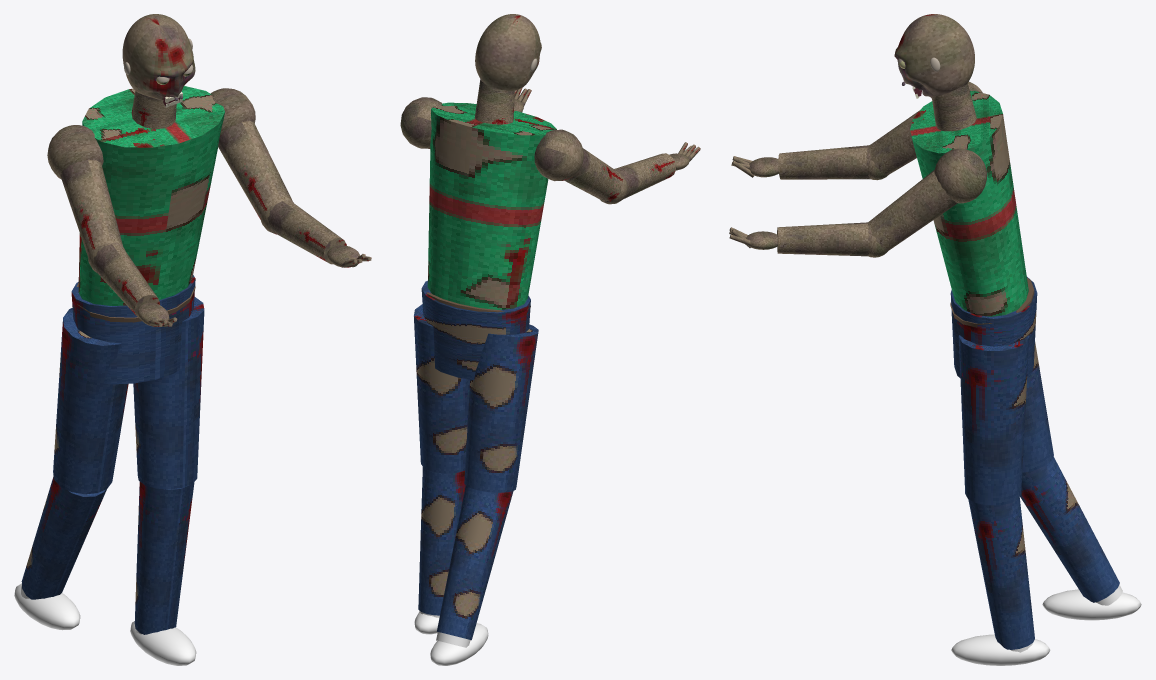
File: Zombie_125.glb
3 renders of one model, left to right at view 1: azimuth 30°, elevation 25°; view 2: azimuth 150°, elevation 25°; view 3: azimuth 270°, elevation 25°, orthographic. The views are drawn at different scales.
Visible parts, largest first — view 1: Zombie_125, object 16, object 10, object 3, object 4; view 2: Zombie_125, object 16, object 3; view 3: Zombie_125, object 16, object 10, object 3.
Part boxes in pixels (bbox=[...]): Zombie_125: bbox=[14, 86, 292, 665]; object 16: bbox=[122, 14, 195, 100]; object 10: bbox=[267, 200, 346, 264]; object 3: bbox=[93, 244, 159, 317]; object 4: bbox=[137, 302, 169, 326]; Zombie_125: bbox=[400, 79, 623, 665]; object 16: bbox=[475, 14, 541, 91]; object 3: bbox=[614, 153, 675, 198]; Zombie_125: bbox=[868, 81, 1141, 665]; object 16: bbox=[894, 14, 974, 98]; object 10: bbox=[777, 222, 869, 256]; object 3: bbox=[778, 145, 870, 179].
Bounding box in the file's own units: 0.6571 × 1.96 × 1.17.
Materials: 15 (5 with a texture image).
